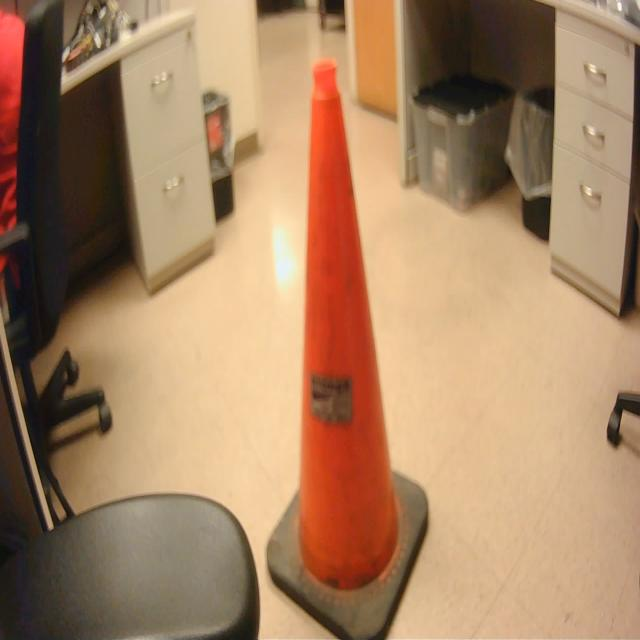traffic cone: (262, 47, 438, 640)
